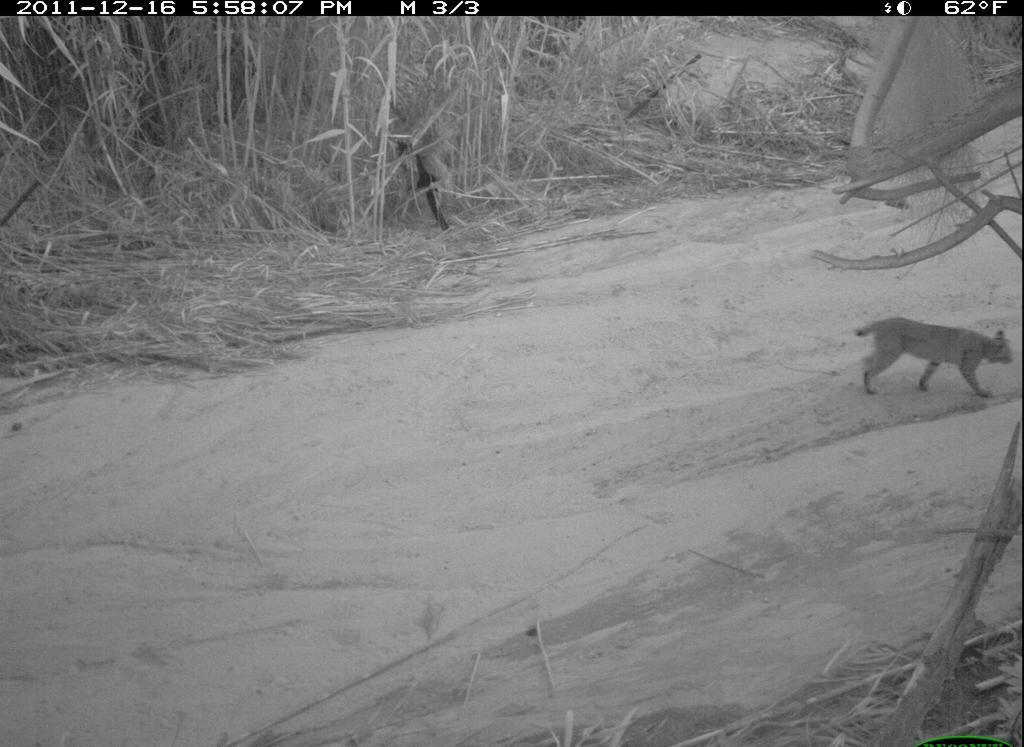bobcat: (835, 306, 1019, 410)
